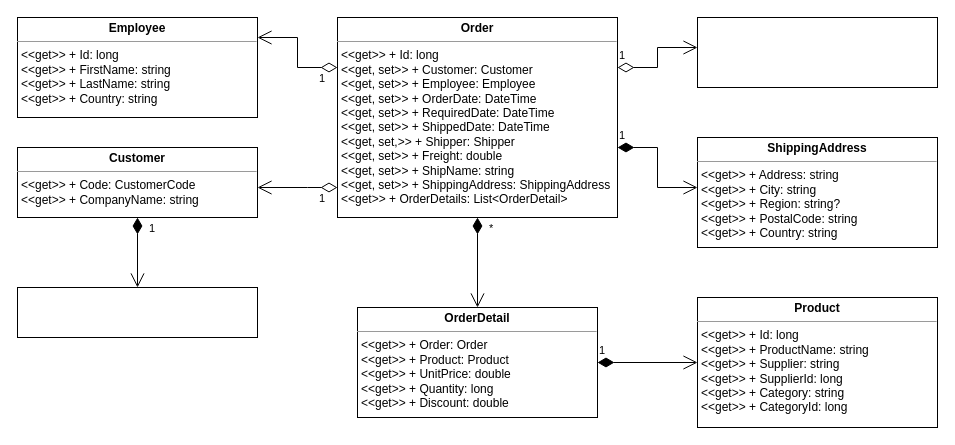
Image size: 955x445. Some labels were removed from this diagram. Each missing label, with the box of its shape:
CustomerCode <<get>> + Code: string: (16, 286, 258, 338)
Shipper <<get>> + Id: long <<get>> + CompanyName: string: (696, 16, 938, 88)
